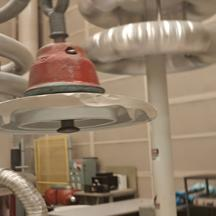insulator: (0, 30, 158, 142)
